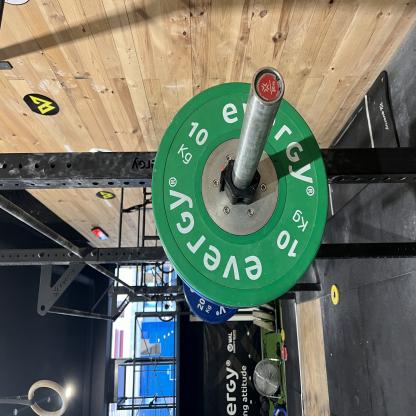barbell: (82, 202, 252, 416)
